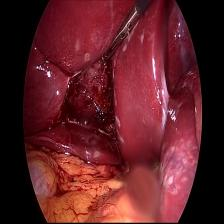Grasper: (102, 1, 145, 68)
